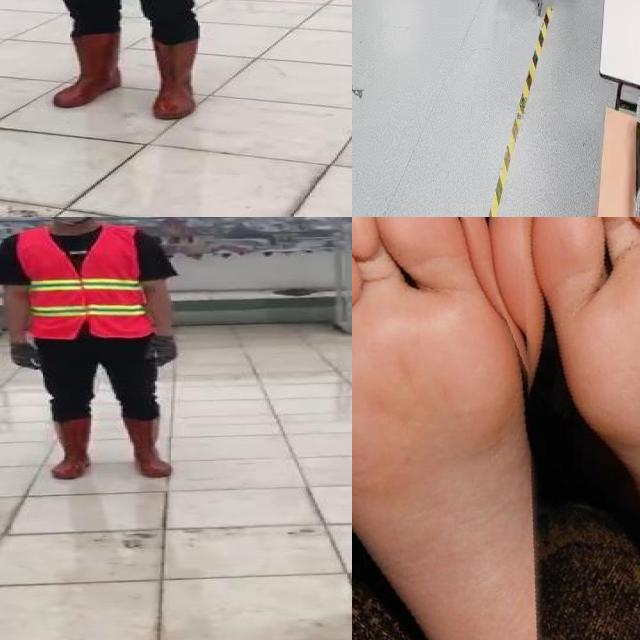Barefoots: (352, 217, 612, 640)
boots: (54, 34, 125, 106), (146, 38, 202, 121), (121, 416, 175, 479), (48, 419, 96, 480)
hand_glove: (8, 344, 46, 375), (146, 336, 178, 368)
person: (0, 217, 187, 485), (0, 0, 226, 124)
vest: (15, 225, 152, 340)
